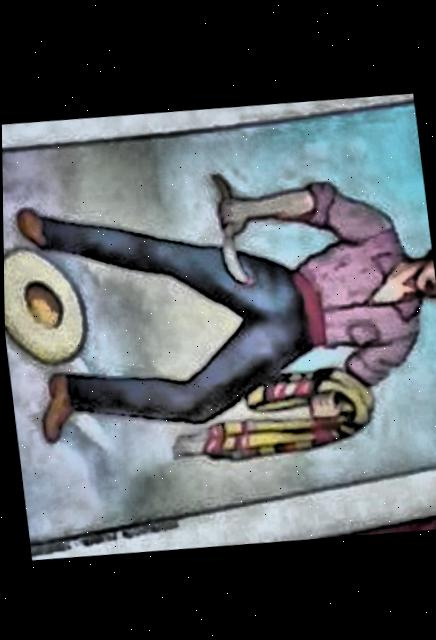El Valiente: (2, 101, 436, 545)
